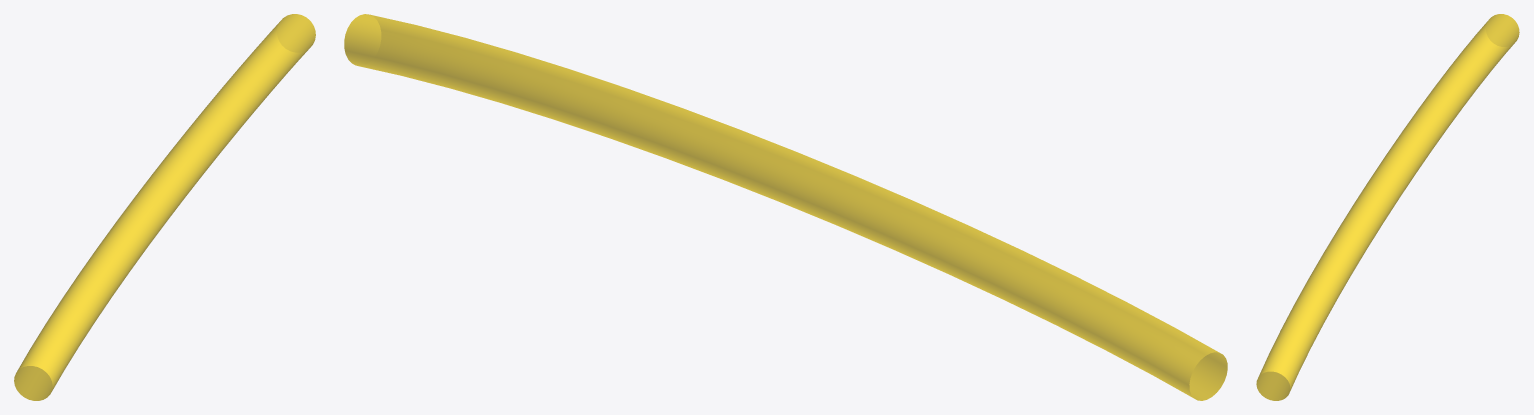
Rendered from Event_84804159_track_61.fbx.
3 views of the same model, side by side, from view 1: azimuth 90°, elevation 25°; view 2: azimuth 150°, elevation 25°; view 3: azimuth 270°, elevation 25° (orthographic). The views are drawn at different scales.
Parts seen in each view (by area): view 1: Model; view 2: Model; view 3: Model.
Boxes of the visible parts, <box> form: Model: <box>14,14,315,400</box>; Model: <box>344,14,1227,400</box>; Model: <box>1256,14,1519,400</box>.
Bounding box in the file's own units: 0.9003 × 0.0835 × 0.299.
